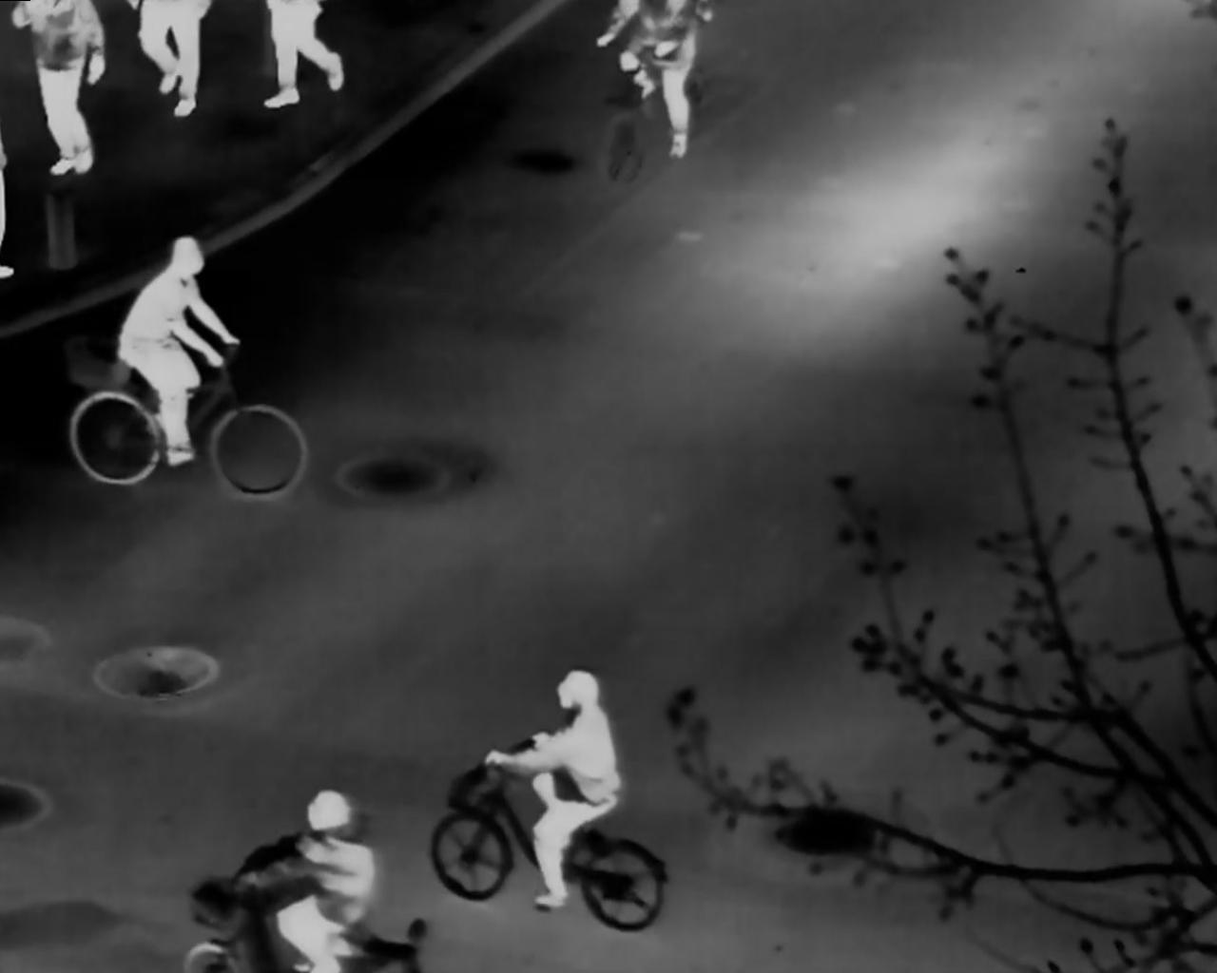person: (485, 666, 624, 913), (113, 234, 241, 467), (595, 2, 713, 162), (274, 789, 373, 973)
